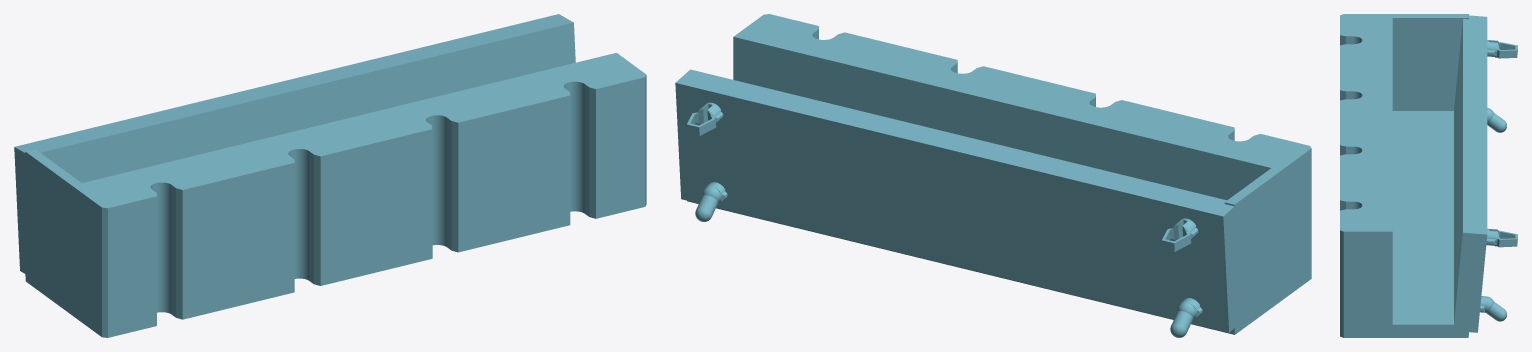
Rendered from part-mh02__current-mounts-v1__fit-pf02c9-hoop5__print.glb.
The picture shows the model from 3 angles, left to right: view 1: azimuth 30°, elevation 25°; view 2: azimuth 150°, elevation 25°; view 3: azimuth 270°, elevation 25°; orthographic projection. The views are drawn at different scales.
Parts seen in each view (by area): view 1: print.stl; view 2: print.stl; view 3: print.stl.
Boxes of the visible parts, x1,y1,x2,y2 form: print.stl: (14,14,646,337); print.stl: (675,14,1311,337); print.stl: (1340,14,1517,337).
Bounding box in the file's own units: 0.1758 × 0.04 × 0.0607.
